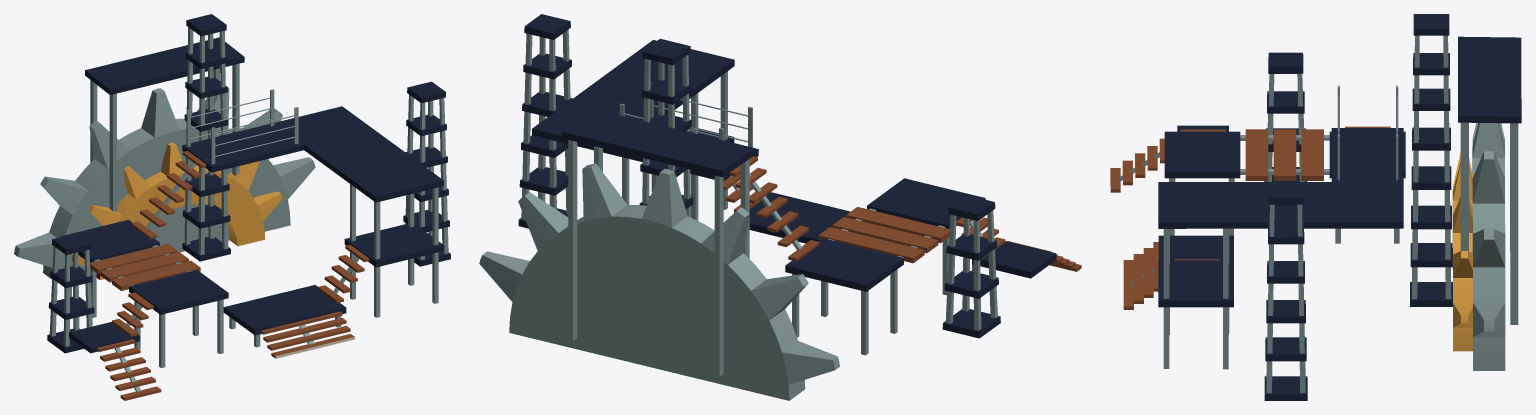
Rendered from circus_03_4.fbx.
3 renders of one model, left to right at view 1: azimuth 30°, elevation 25°; view 2: azimuth 150°, elevation 25°; view 3: azimuth 270°, elevation 25°, orthographic. The views are drawn at different scales.
Visible parts, largest first — view 1: F_Circus_01.009, F_Circus_01.021, F_Circus_01.011, F_Circus_01.008, F_Circus_01.018, F_Circus_01.017, F_Circus_01.019, F_Circus_01.010, F_Circus_01.012, F_Circus_01.022, F_Circus_01.013, F_Circus_01.001 (+4 smaller); view 2: F_Circus_01.009, F_Circus_01.017, F_Circus_01.021, F_Circus_01.010, F_Circus_01.022, F_Circus_01.014, F_Circus_01.011, F_Circus_01.013, F_Circus_01.012, F_Circus_01.018, F_Circus_01.016, F_Circus_01.001 (+1 smaller); view 3: F_Circus_01.021, F_Circus_01.011, F_Circus_01.017, F_Circus_01.009, F_Circus_01.010, F_Circus_01.019, F_Circus_01.013, F_Circus_01.012, F_Circus_01.018, F_Circus_01.008, F_Circus_01.022, F_Circus_01.001 (+1 smaller).
Boxes of the visible parts, x1,y1,x2,y2 form: F_Circus_01.009: [14, 87, 315, 279]; F_Circus_01.021: [182, 89, 443, 202]; F_Circus_01.011: [182, 14, 230, 261]; F_Circus_01.008: [72, 142, 282, 279]; F_Circus_01.018: [223, 285, 354, 358]; F_Circus_01.017: [85, 37, 244, 211]; F_Circus_01.019: [344, 184, 443, 317]; F_Circus_01.010: [403, 81, 450, 266]; F_Circus_01.012: [129, 270, 228, 367]; F_Circus_01.022: [47, 233, 94, 353]; F_Circus_01.013: [90, 244, 200, 290]; F_Circus_01.001: [69, 322, 161, 400]; F_Circus_01.009: [479, 163, 839, 400]; F_Circus_01.017: [562, 109, 755, 376]; F_Circus_01.021: [532, 40, 758, 180]; F_Circus_01.010: [518, 14, 572, 228]; F_Circus_01.022: [942, 195, 1000, 338]; F_Circus_01.014: [785, 238, 903, 355]; F_Circus_01.011: [639, 38, 693, 217]; F_Circus_01.013: [818, 207, 949, 263]; F_Circus_01.012: [867, 178, 985, 295]; F_Circus_01.018: [749, 192, 850, 243]; F_Circus_01.016: [729, 156, 819, 260]; F_Circus_01.001: [972, 241, 1081, 278]; F_Circus_01.021: [1158, 85, 1403, 228]; F_Circus_01.011: [1410, 14, 1452, 306]; F_Circus_01.017: [1458, 36, 1521, 324]; F_Circus_01.009: [1472, 123, 1505, 370]; F_Circus_01.010: [1264, 183, 1307, 400]; F_Circus_01.019: [1158, 228, 1233, 369]; F_Circus_01.013: [1240, 129, 1329, 180]; F_Circus_01.012: [1164, 131, 1240, 235]; F_Circus_01.018: [1123, 235, 1233, 309]; F_Circus_01.008: [1452, 152, 1472, 351]; F_Circus_01.022: [1264, 52, 1307, 181]; F_Circus_01.001: [1110, 125, 1228, 192].
Bounding box in the file's own units: 1924 × 1114 × 1431.
